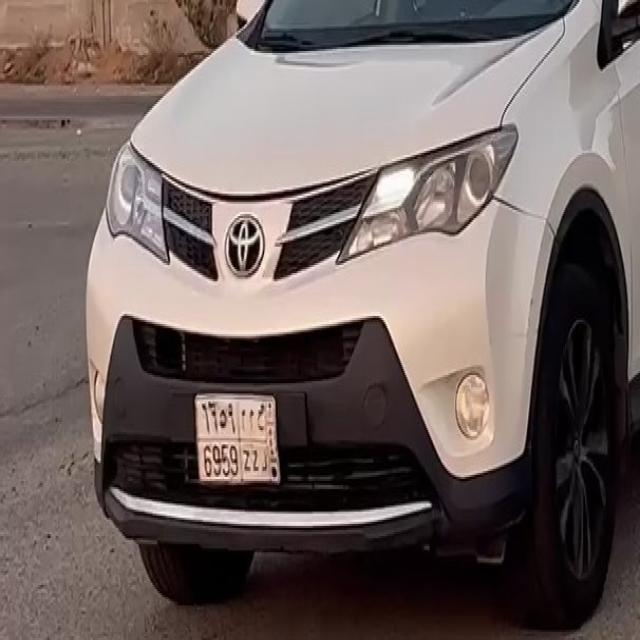Car-plate: (190, 380, 284, 496)
